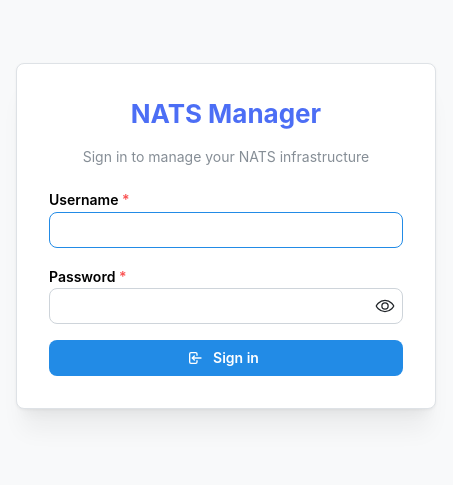
Test: LoginPage › shows error message on login failure
Type "wrong" into the field labelled "Username *". click: coordinates (226, 230)
box: top-left (49, 212), bottom-right (403, 248)
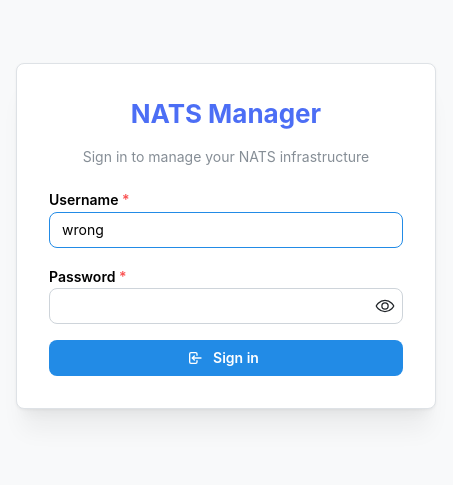
Type "wrong" into the password field labelled "Password *". click: coordinates (226, 306)
box: top-left (50, 290), bottom-right (402, 324)
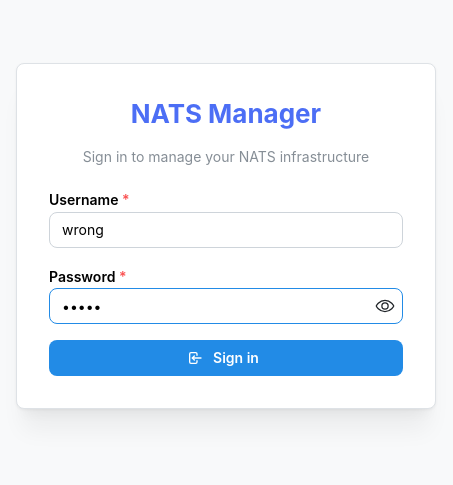
Click the button "Sign in". click: coordinates (226, 358)
box: top-left (49, 340), bottom-right (403, 376)
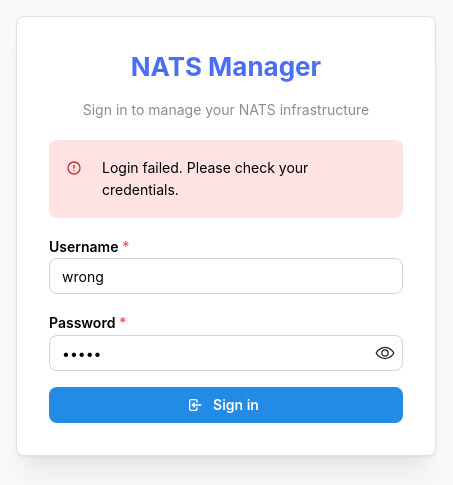
expect the text "Login failed. Please check your credentials." is shown: met, box top-left (102, 159), bottom-right (308, 198)
